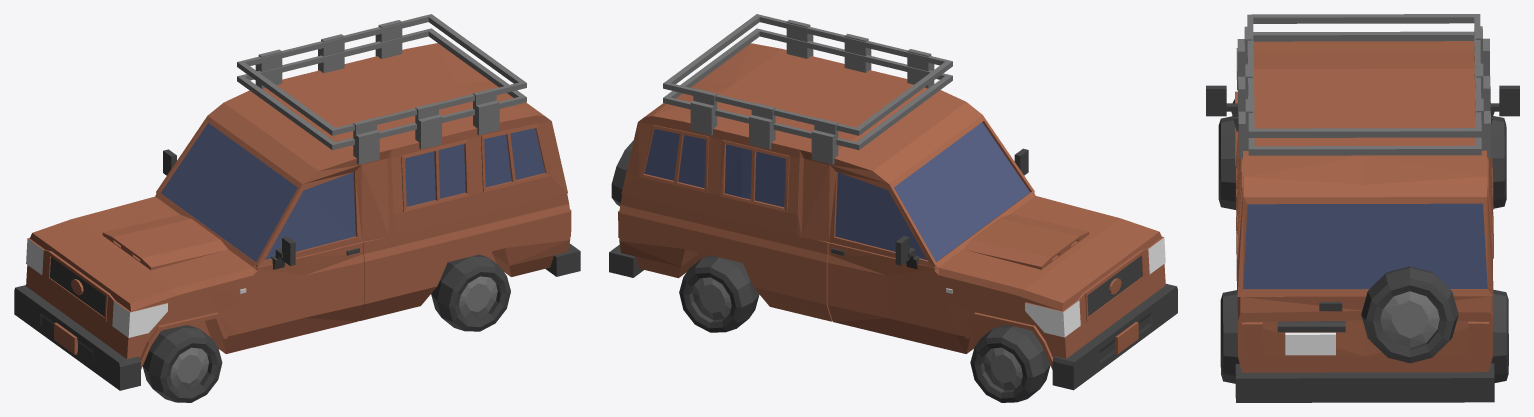
File: car_C.fbx
3 renders of one model, left to right at view 1: azimuth 30°, elevation 25°; view 2: azimuth 150°, elevation 25°; view 3: azimuth 270°, elevation 25°, orthographic. The views are drawn at different scales.
Visible parts, largest first — view 1: Offroad1; view 2: Offroad1; view 3: Offroad1.
Boxes of the visible parts, <box> form: Offroad1: <box>14,14,580,402</box>; Offroad1: <box>609,14,1177,402</box>; Offroad1: <box>1206,14,1519,402</box>.
Bounding box in the file's own units: 1709 × 782 × 779.
